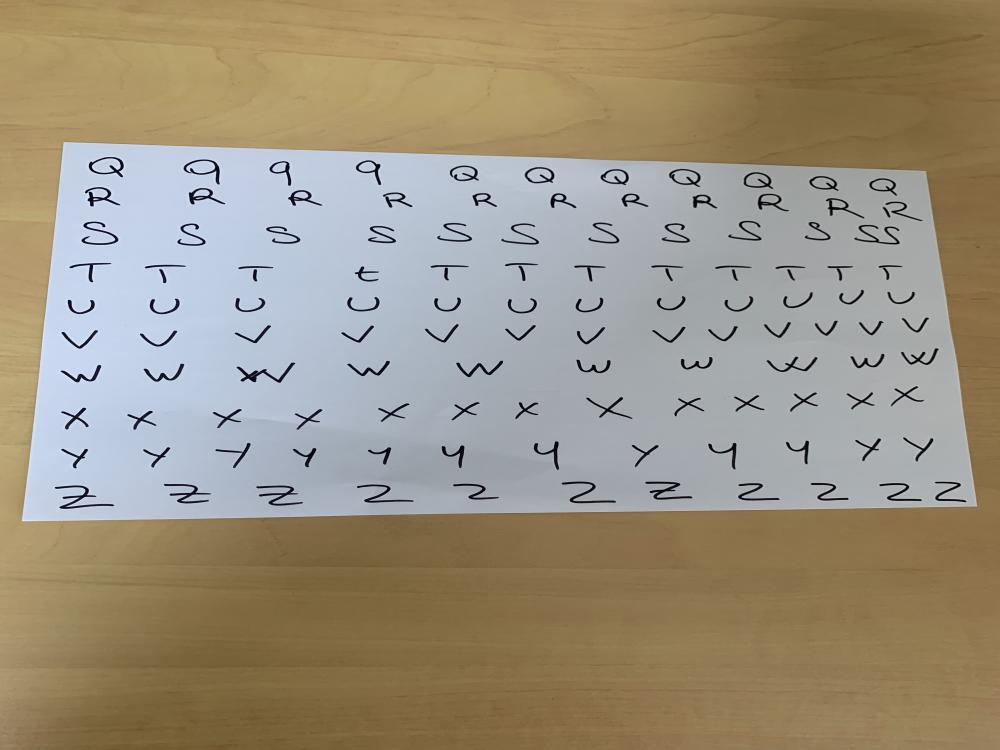9: (178, 157, 227, 186), (352, 158, 386, 188), (266, 158, 297, 186)
Q: (84, 153, 132, 181), (442, 161, 483, 185), (516, 164, 560, 186), (595, 168, 638, 189), (737, 170, 780, 190), (667, 167, 706, 189), (866, 176, 904, 196), (803, 175, 843, 194)
R: (879, 201, 926, 224), (824, 197, 868, 221), (83, 186, 124, 208), (753, 192, 791, 214), (186, 187, 227, 207), (286, 189, 326, 208), (379, 191, 416, 209), (546, 192, 580, 210), (465, 191, 498, 208), (688, 193, 720, 210), (620, 193, 650, 208)
S: (79, 218, 122, 247), (584, 220, 626, 246), (169, 222, 212, 247), (499, 222, 542, 246), (436, 220, 475, 244), (800, 221, 835, 244), (264, 226, 304, 245), (660, 222, 694, 244), (727, 221, 765, 240), (366, 224, 398, 246), (851, 221, 880, 245), (878, 224, 908, 246)
T: (141, 264, 188, 286), (67, 262, 112, 284), (427, 263, 474, 283), (502, 261, 540, 284), (712, 264, 754, 283), (571, 264, 608, 284), (237, 264, 277, 282), (649, 264, 686, 282), (772, 264, 808, 282), (350, 264, 380, 285), (874, 264, 908, 282), (825, 264, 856, 282)
U: (145, 296, 184, 316), (777, 290, 815, 309), (570, 296, 608, 315), (62, 297, 100, 316), (882, 289, 922, 307), (344, 294, 384, 312), (722, 294, 756, 314), (430, 296, 466, 314), (504, 296, 540, 314), (232, 297, 268, 314), (650, 296, 692, 310), (837, 290, 866, 306)
V: (229, 324, 278, 345), (335, 324, 378, 347), (58, 329, 104, 350), (422, 322, 465, 344), (646, 325, 690, 346), (138, 328, 181, 348), (897, 314, 934, 336), (572, 326, 610, 347), (499, 323, 540, 342), (706, 325, 742, 343), (810, 319, 842, 339), (762, 320, 794, 340), (854, 319, 886, 336)
W: (232, 360, 300, 384), (763, 354, 823, 374), (451, 358, 507, 379), (138, 363, 192, 383), (342, 360, 396, 379), (900, 347, 946, 368), (57, 363, 103, 384), (572, 358, 616, 376), (846, 353, 888, 370), (676, 354, 717, 371)
X: (581, 393, 637, 422), (446, 398, 485, 424), (730, 392, 772, 416), (370, 402, 414, 424), (124, 408, 163, 432), (58, 406, 95, 431), (668, 394, 708, 417), (209, 407, 248, 430), (888, 386, 926, 409), (292, 406, 326, 431), (784, 392, 822, 413), (842, 390, 878, 412), (509, 400, 542, 422)
Y: (53, 443, 99, 472), (135, 443, 178, 472), (898, 433, 938, 464), (531, 439, 565, 473), (214, 442, 255, 470), (704, 442, 742, 472), (780, 438, 818, 467), (623, 441, 660, 470), (357, 442, 398, 468), (848, 436, 886, 464), (287, 446, 321, 470), (439, 444, 468, 470)
Z: (49, 484, 119, 510), (553, 480, 619, 505), (354, 482, 418, 504), (249, 483, 306, 507), (160, 481, 216, 505), (640, 478, 698, 501), (730, 481, 784, 503), (448, 481, 502, 502), (876, 481, 924, 504), (806, 481, 851, 502), (932, 480, 971, 504)
